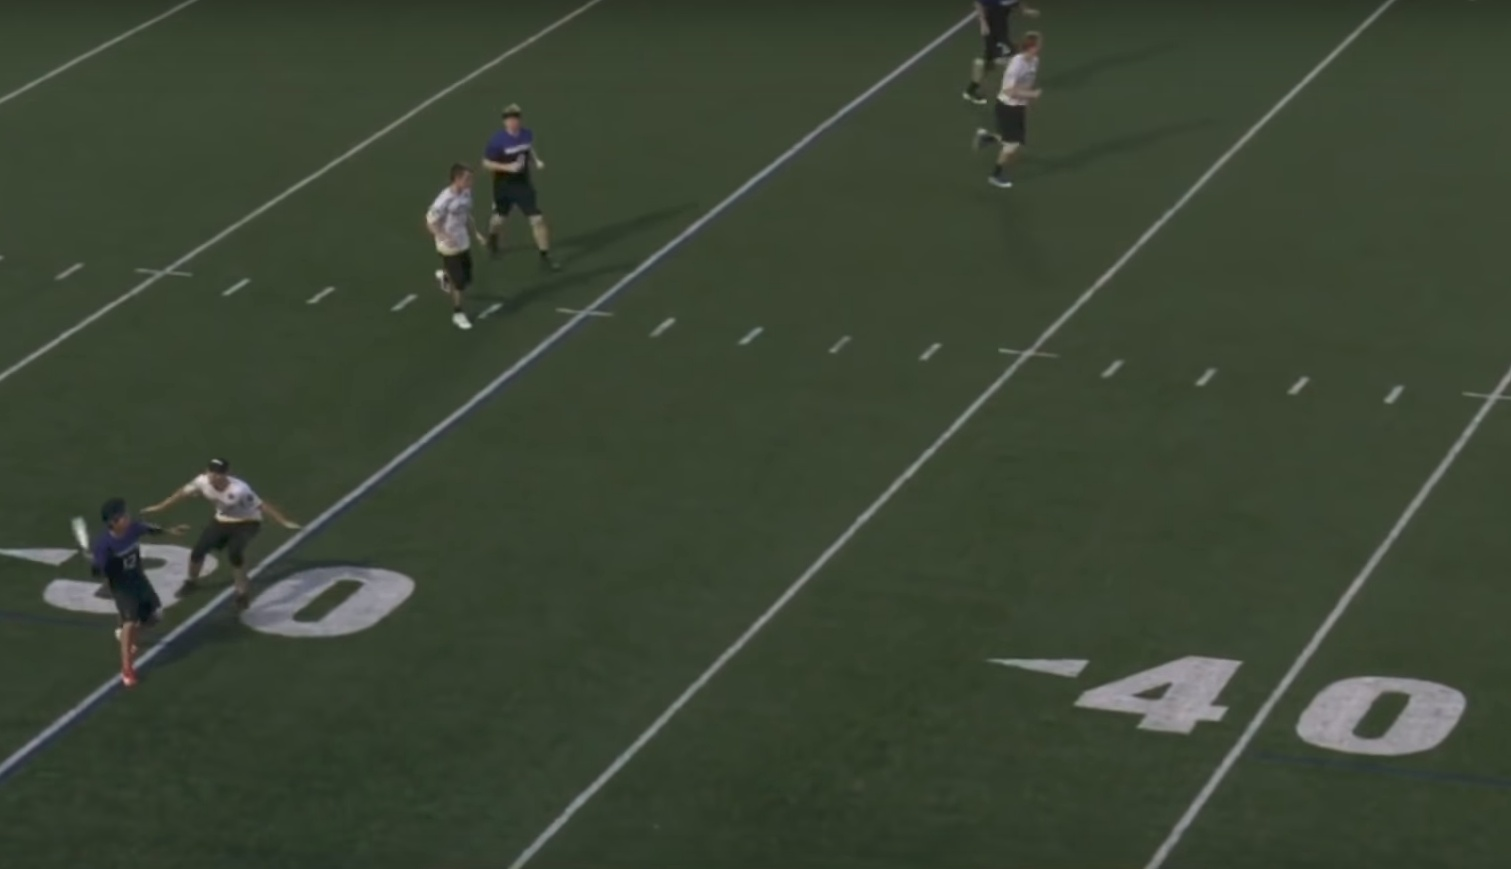frisbee: (71, 515, 92, 552)
